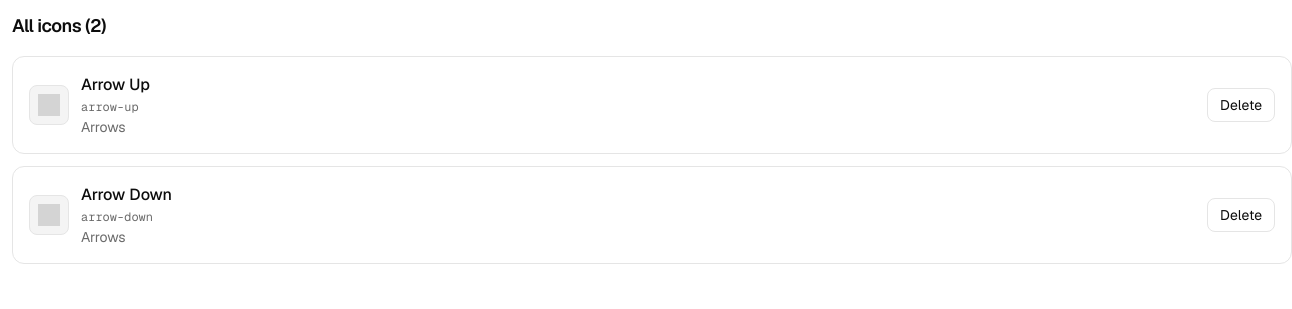
<IconsAdmin /> › shows the server error in the row when delete fails
Check: the text "Arrow Up" is shown, box x1=81 y1=73 x2=150 y2=97
Click the button with aria-label "Delete Arrow Up".
click(1241, 105)  # box x1=1207 y1=88 x2=1275 y2=122
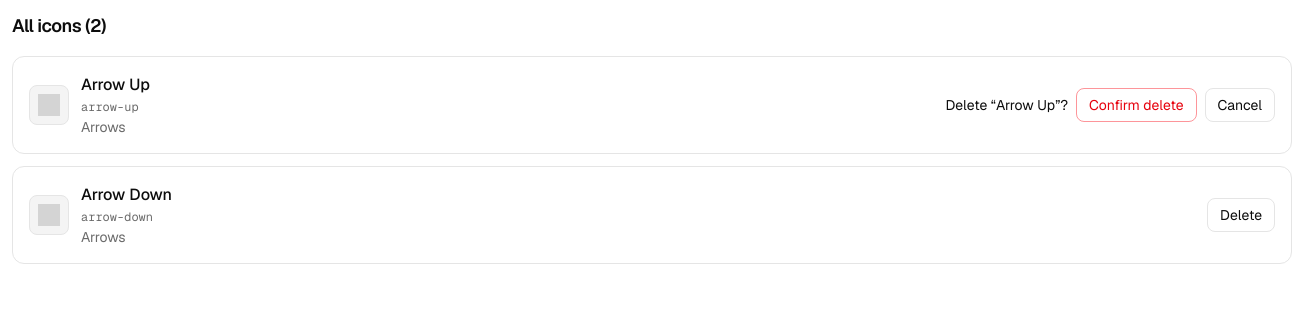
Click the button "Confirm delete".
click(1136, 105)  # box x1=1076 y1=88 x2=1197 y2=122
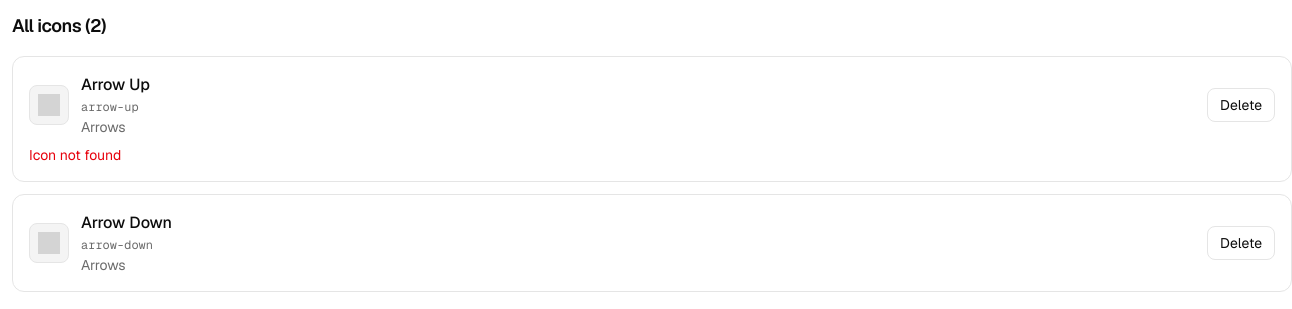
Check: the text "Arrow Up" is shown, box x1=81 y1=73 x2=150 y2=97
Check: the message reads "Icon not found", box x1=29 y1=146 x2=121 y2=164
